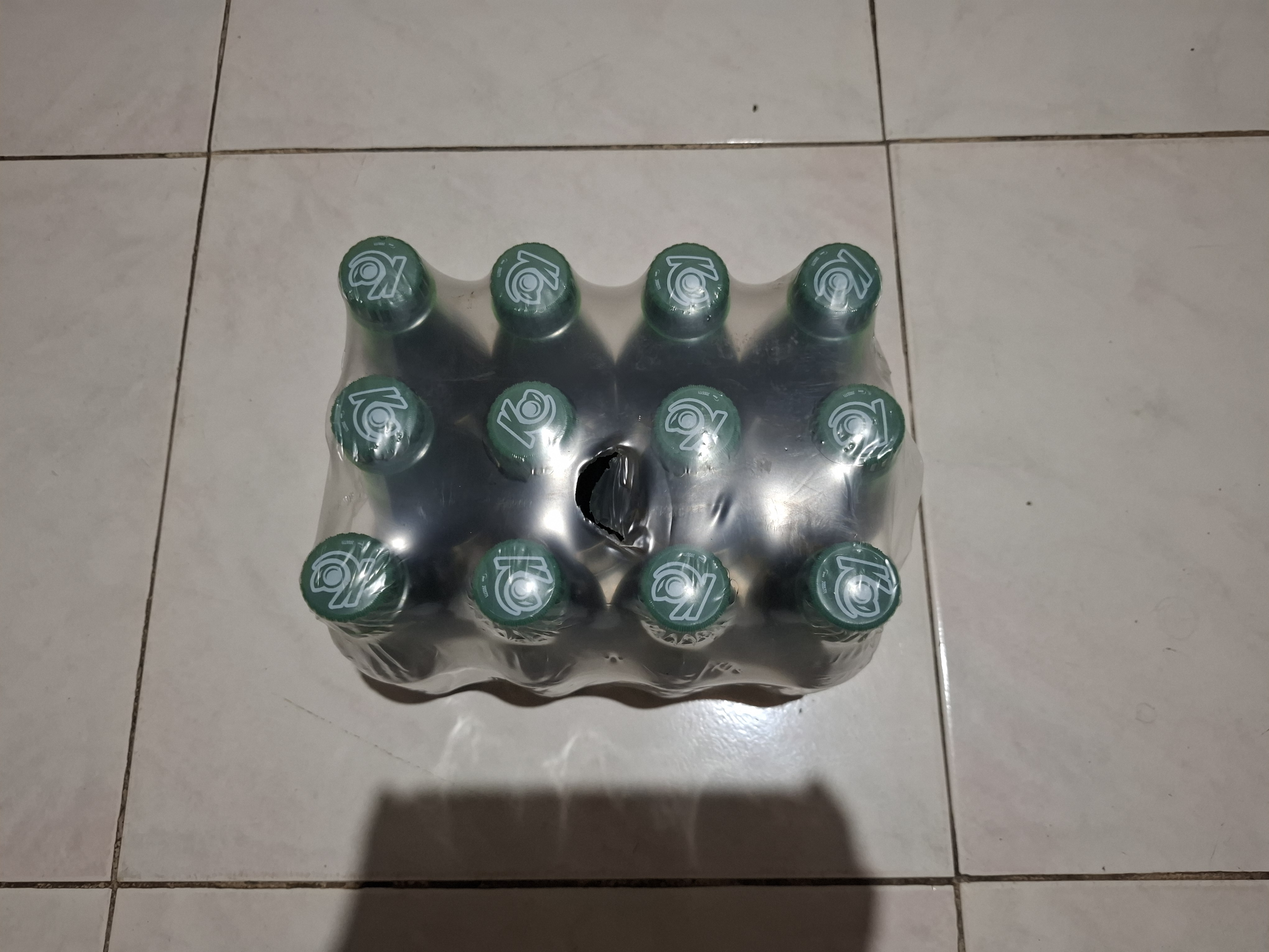Tampa Refrigerante Kuat: (798, 538, 901, 637), (329, 373, 431, 471), (298, 531, 401, 626), (338, 231, 435, 331), (481, 376, 575, 477), (640, 541, 735, 640), (641, 242, 733, 340), (472, 533, 562, 632), (651, 383, 745, 477), (490, 239, 579, 338), (812, 380, 904, 475), (797, 242, 880, 331)
